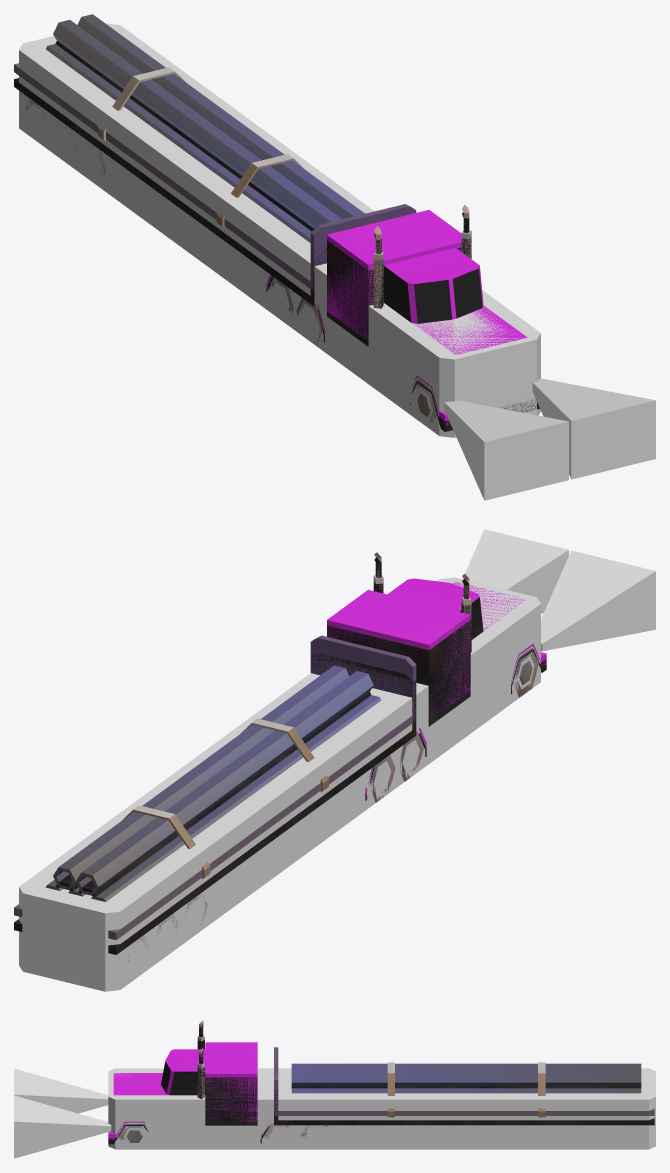
The model's file is truck_flatbed.fbx.
3 renders of one model, top to bottom at view 1: azimuth 30°, elevation 25°; view 2: azimuth 150°, elevation 25°; view 3: azimuth 270°, elevation 25°, orthographic. The views are drawn at different scales.
Visible parts, largest first — view 1: truck_flatbed, truck_live_cldr, truck_dead, truck_flatbed_dead, truck_pipe1_dead; view 2: truck_flatbed, truck_live_cldr, truck_dead, truck_flatbed_dead, truck_pipe1_dead; view 3: truck_live_cldr, truck_flatbed, truck_dead, truck_flatbed_dead, truck_pipe5_dead.
Boxes of the visible parts, <box> form: truck_flatbed: <box>14,14,655,500</box>; truck_live_cldr: <box>19,23,540,437</box>; truck_dead: <box>265,212,539,431</box>; truck_flatbed_dead: <box>14,78,326,306</box>; truck_pipe1_dead: <box>55,41,313,231</box>; truck_flatbed: <box>14,529,655,949</box>; truck_live_cldr: <box>19,577,540,991</box>; truck_dead: <box>327,558,546,800</box>; truck_flatbed_dead: <box>14,653,416,960</box>; truck_pipe1_dead: <box>78,692,371,896</box>; truck_live_cldr: <box>108,1068,655,1149</box>; truck_flatbed: <box>14,1020,654,1158</box>; truck_dead: <box>108,1024,327,1144</box>; truck_flatbed_dead: <box>274,1090,654,1125</box>; truck_pipe5_dead: <box>291,1086,641,1088</box>.
Size of the model in its own units: 7.09 by 6.23 by 36.24.
